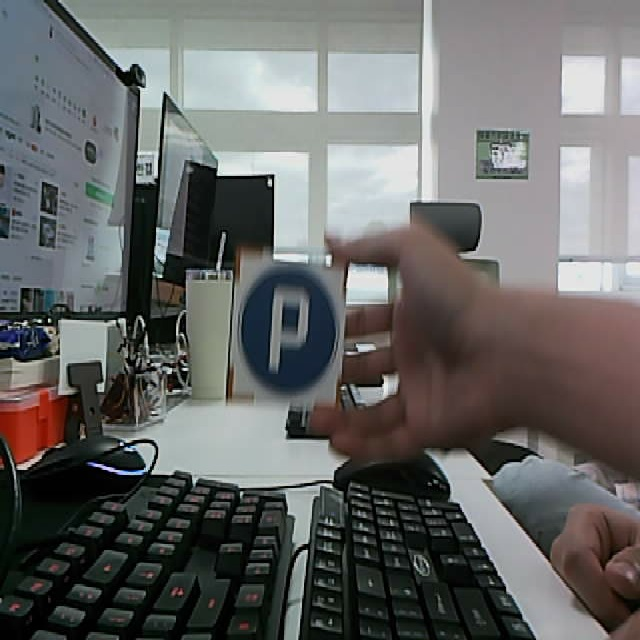parking: (225, 247, 351, 414)
